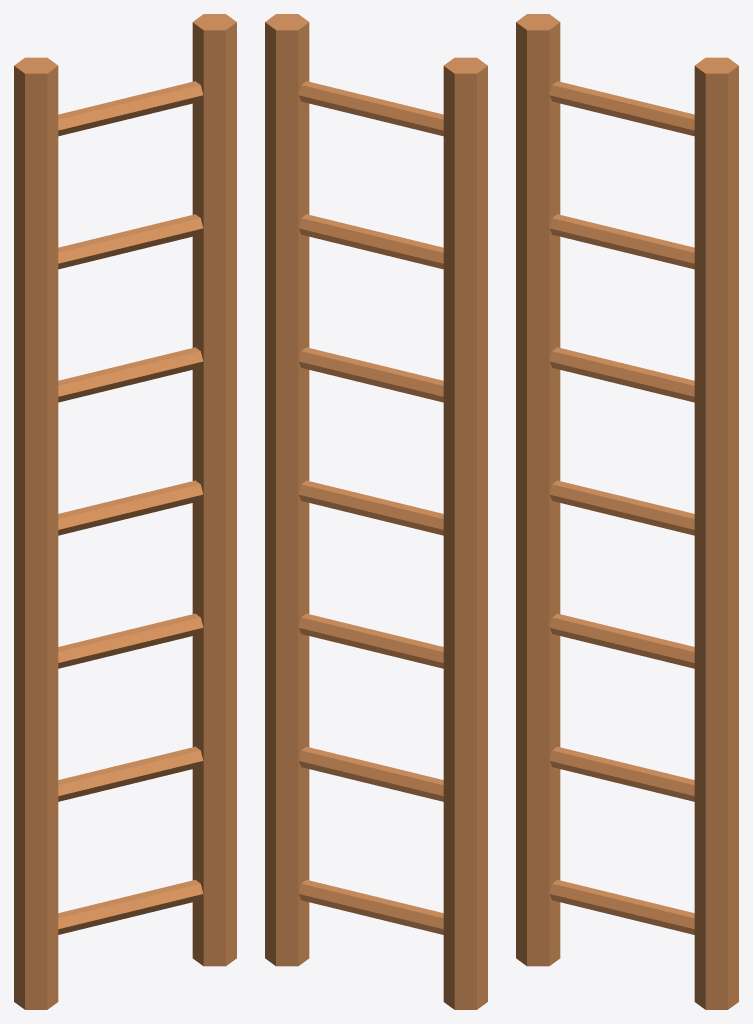
File: ladder.glb
3 views of the same model, side by side, from view 1: azimuth 30°, elevation 25°; view 2: azimuth 150°, elevation 25°; view 3: azimuth 330°, elevation 25° (orthographic).
Parts seen in each view (by area): view 1: ladr_Ladder_0; view 2: ladr_Ladder_0; view 3: ladr_Ladder_0.
Part boxes in pixels (x1,y1,x2,y2): ladr_Ladder_0: [14, 14, 236, 1009]; ladr_Ladder_0: [265, 14, 487, 1009]; ladr_Ladder_0: [516, 14, 738, 1009].
Size of the model in its own units: 237 by 1002 by 43.06.
Materials: 1 (1 with a texture image).
